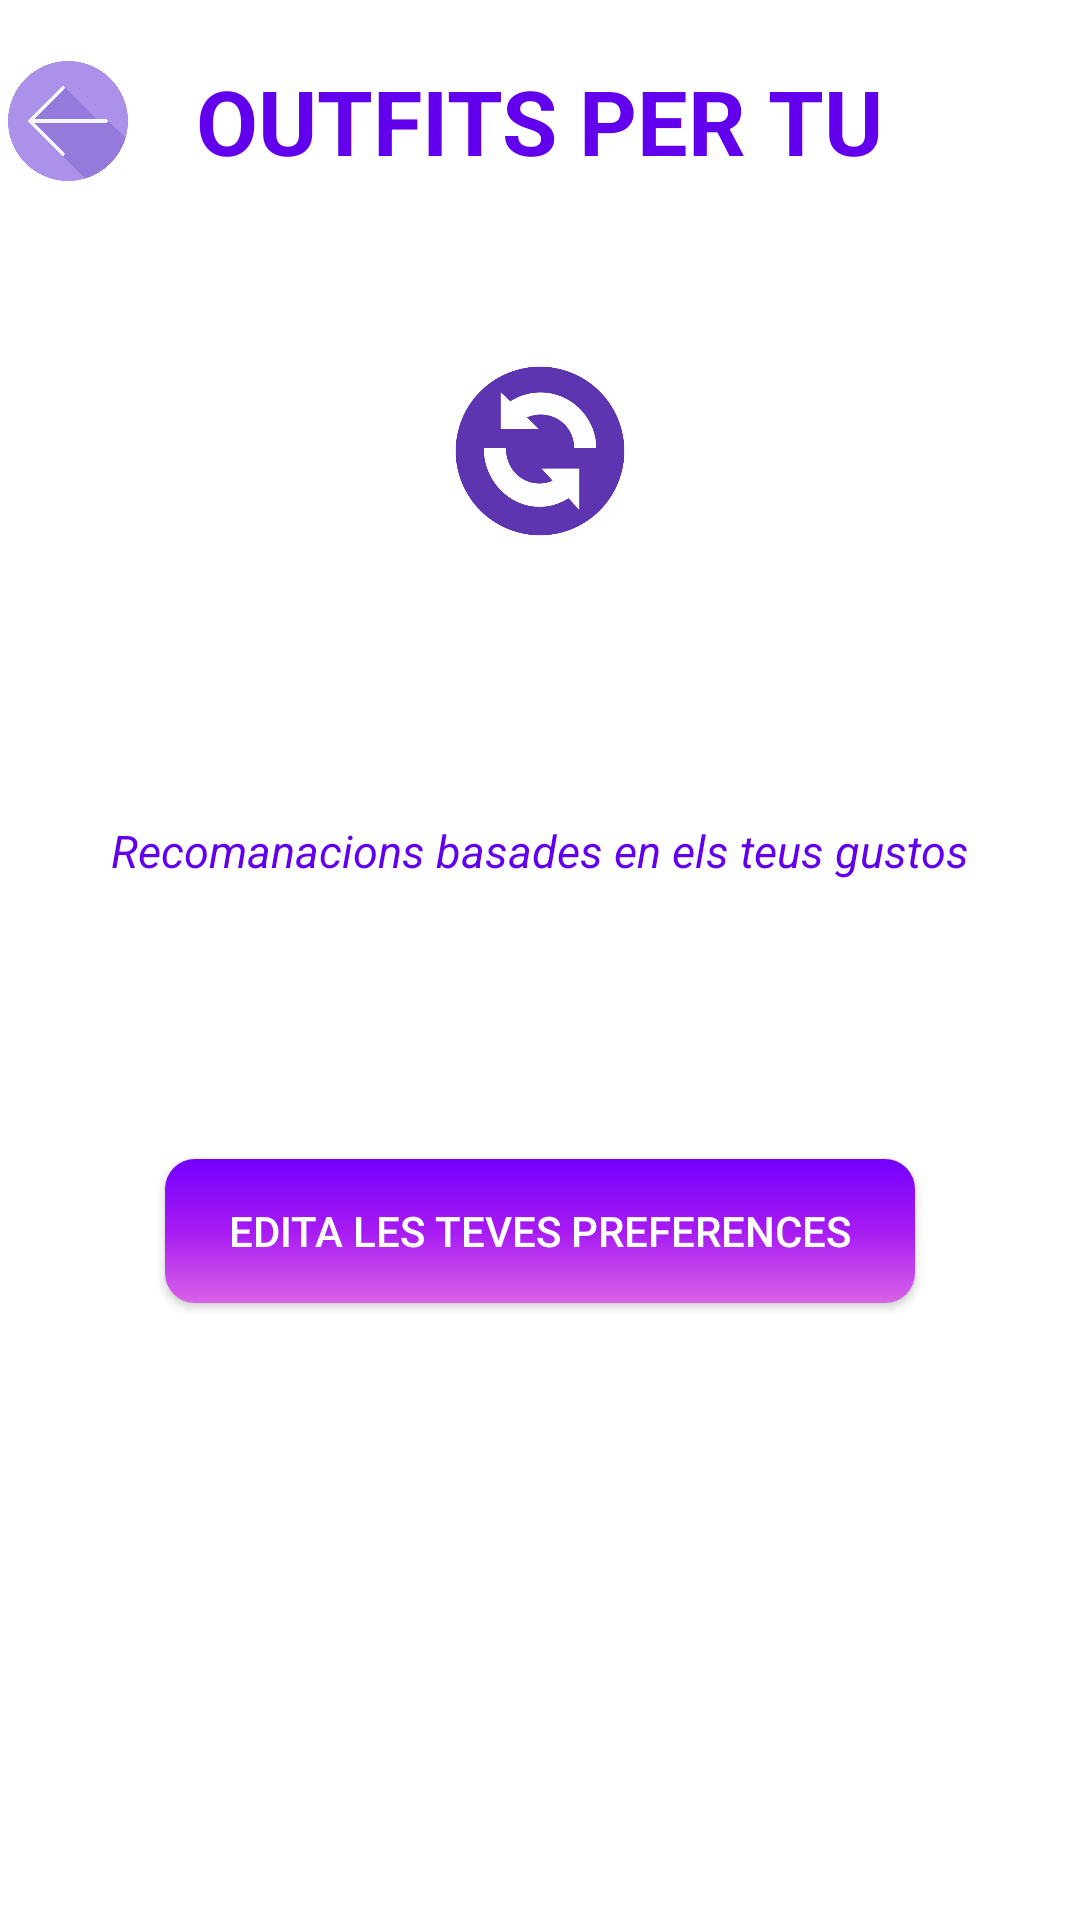

Screen size 1080px×1920px. Icon name, then its center in pixels as (x=x, y=y):
back: (x=68, y=121)
refresh: (x=540, y=451)
